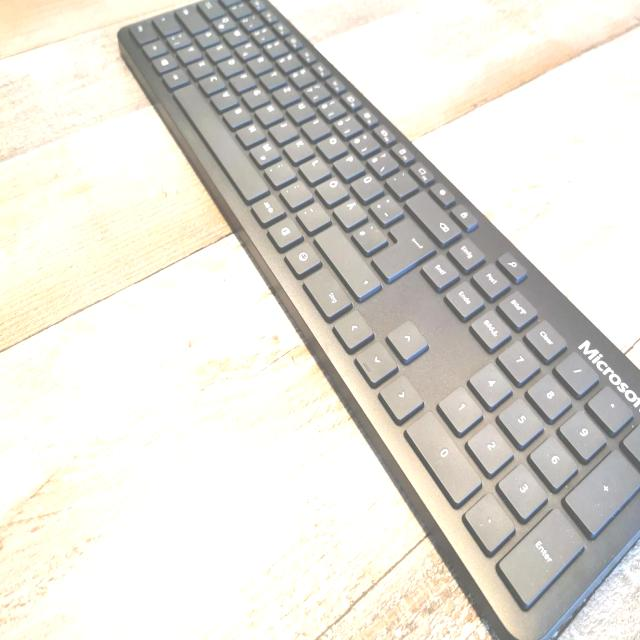0: (349, 131, 381, 155)
1: (228, 0, 251, 18)
2: (240, 11, 263, 31)
3: (251, 24, 276, 44)
4: (263, 37, 289, 57)
5: (275, 51, 301, 71)
6: (288, 65, 315, 87)
7: (303, 80, 330, 102)
8: (318, 96, 346, 120)
9: (333, 114, 363, 138)
a: (195, 27, 219, 47)
accent: (385, 169, 419, 196)
ae: (333, 197, 367, 229)
alt-left: (162, 68, 188, 90)
altgr-right: (250, 193, 286, 227)
b: (223, 100, 252, 127)
c: (198, 69, 225, 93)
caret: (217, 0, 241, 5)
comma: (263, 156, 296, 186)
d: (218, 52, 243, 76)
del: (406, 185, 462, 243)
e: (235, 37, 260, 59)
enter: (372, 212, 434, 280)
f: (228, 71, 256, 93)
g: (240, 83, 270, 109)
h: (254, 100, 284, 126)
hash: (351, 219, 387, 253)
i: (301, 114, 330, 140)
j: (269, 115, 298, 143)
k: (284, 134, 314, 163)
keyboard: (112, 0, 640, 640)
l: (299, 154, 331, 182)
less: (168, 29, 193, 51)
m: (249, 136, 280, 164)
minus: (296, 199, 330, 231)
n: (236, 118, 266, 145)
o: (317, 131, 347, 159)
oe: (316, 174, 348, 204)
p: (333, 150, 365, 178)
plus: (369, 192, 403, 223)
point: (279, 178, 313, 208)
q: (212, 11, 236, 31)
r: (248, 54, 273, 76)
s: (206, 40, 231, 62)
shift-left: (153, 11, 183, 37)
shift-lock: (174, 3, 210, 35)
shift-right: (313, 223, 382, 299)
space: (174, 80, 270, 201)
ss: (366, 149, 400, 176)
strg-left: (127, 18, 159, 44)
strg-right: (302, 264, 351, 318)
t: (260, 65, 286, 89)
tab: (196, 1, 226, 21)
u: (286, 96, 314, 122)
ue: (350, 171, 384, 202)
v: (210, 85, 238, 110)
w: (223, 25, 248, 47)
x: (187, 54, 213, 77)
y: (177, 40, 202, 62)
z: (273, 80, 299, 105)
